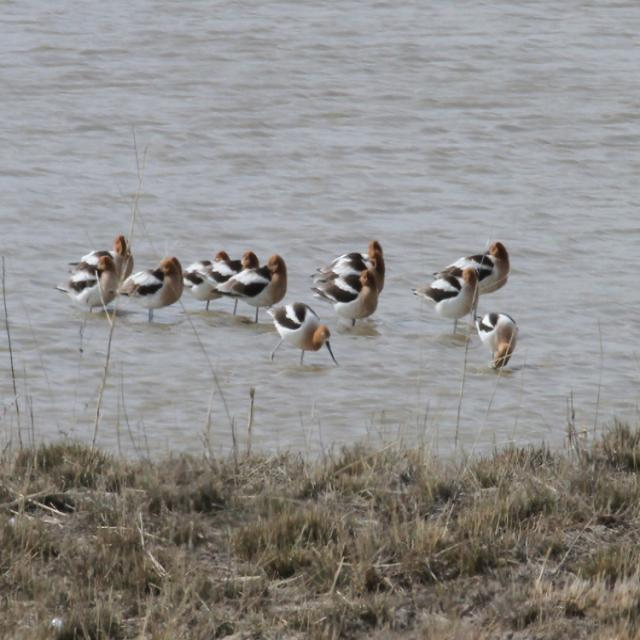bird: (409, 238, 514, 332), (58, 239, 145, 328), (308, 238, 387, 335), (205, 251, 292, 328), (123, 254, 189, 330), (262, 307, 336, 369), (476, 310, 519, 370)
